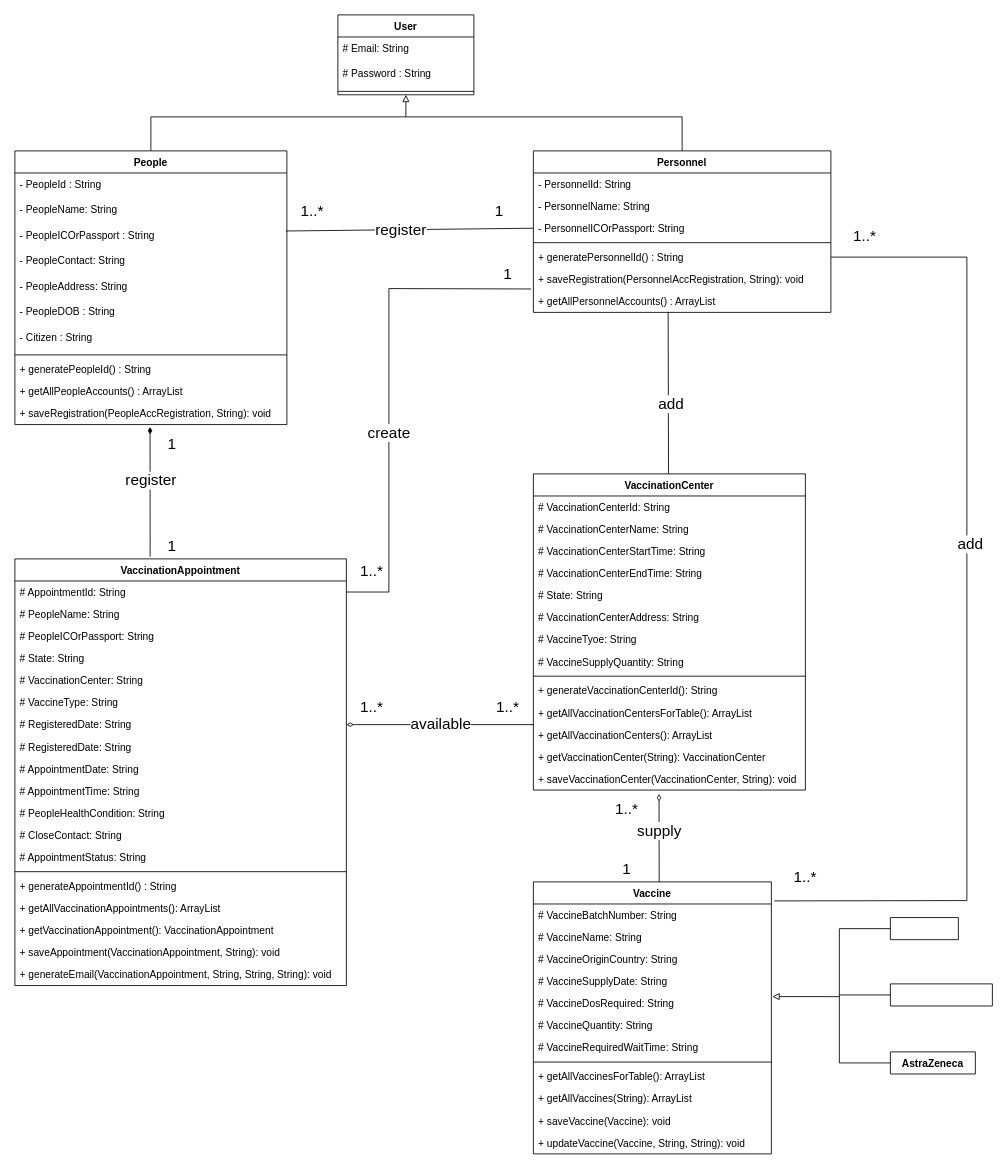
Some shapes in this 1007 by 1171 pixel diagram are drawn without their labels. The centre of each missing label's shape, as x and y in pixels:
Pfizer-NBioTech: (x=941, y=994)
Sinovac: (x=924, y=928)
